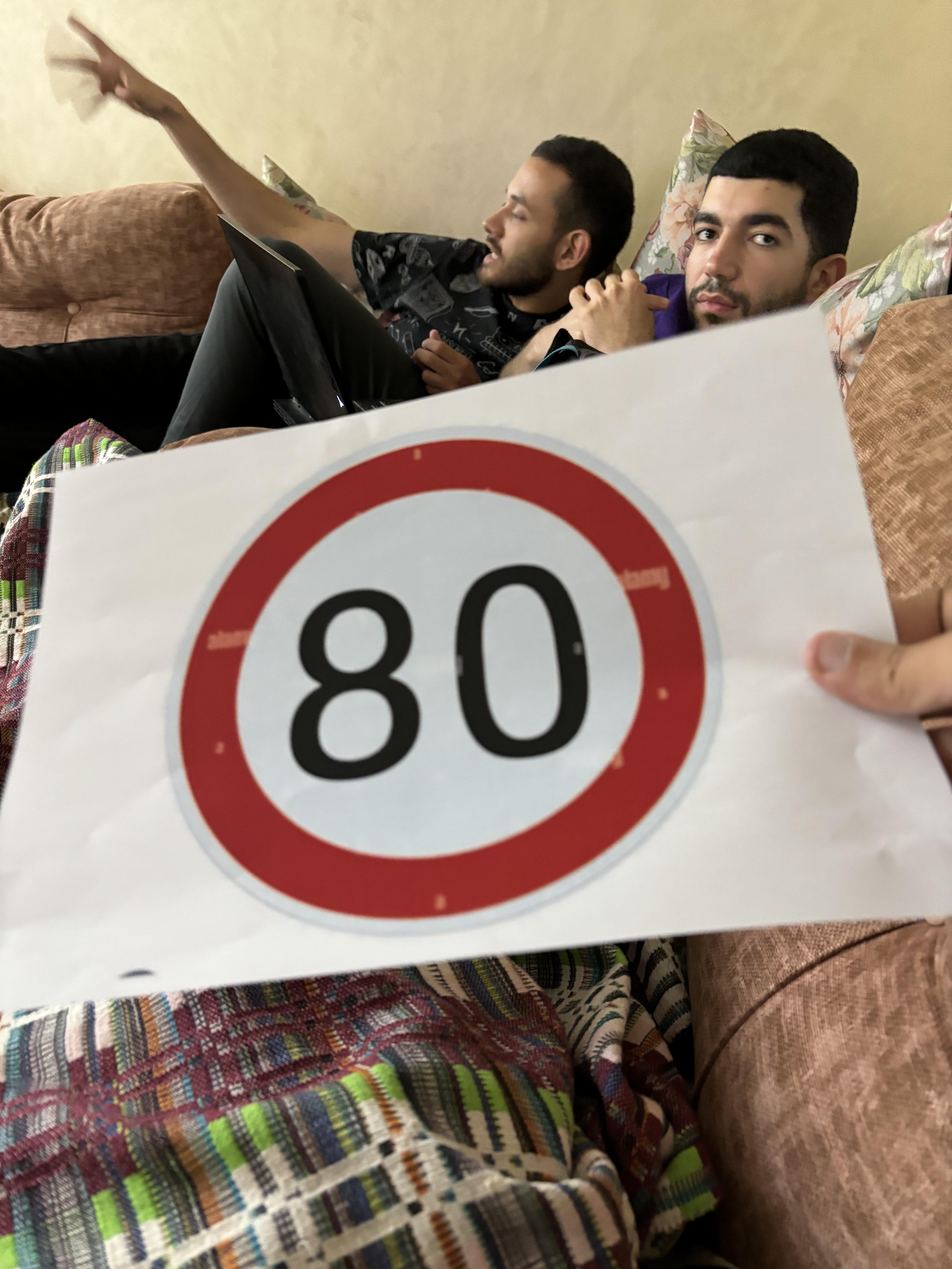80-Speed: (165, 423, 722, 938)
